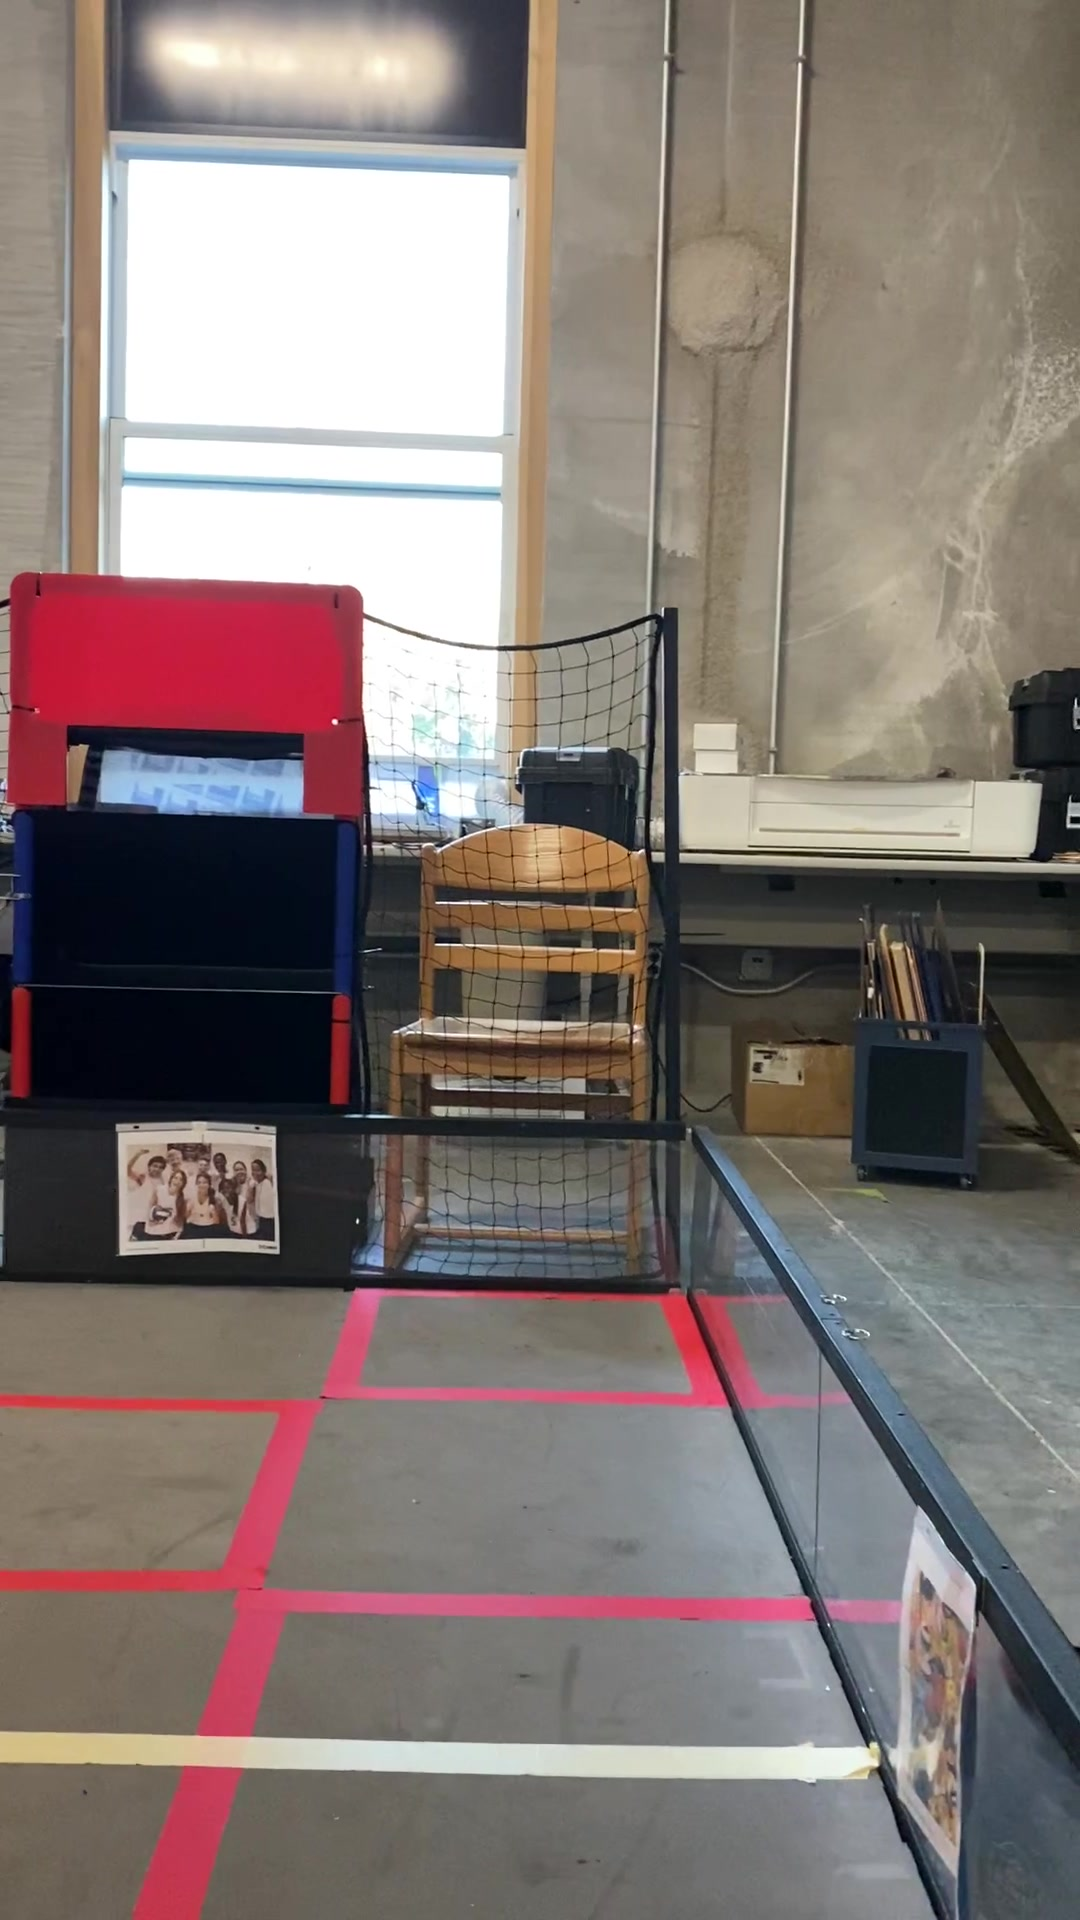high_goal: (63, 731, 305, 812)
